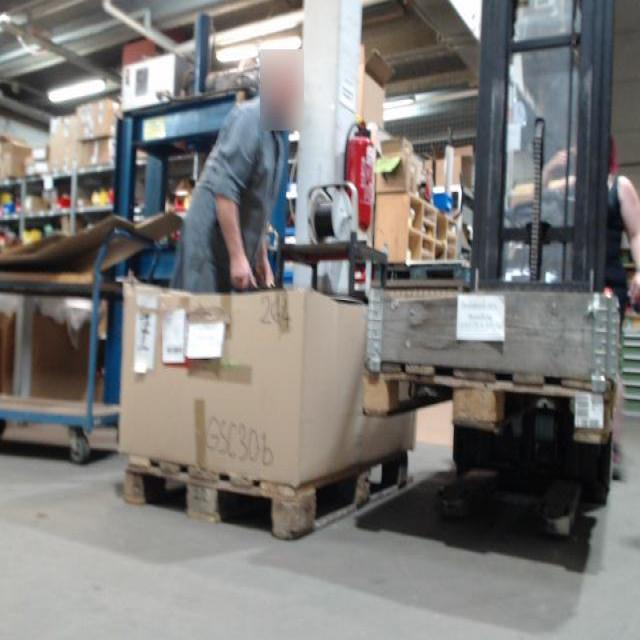pallet: (122, 439, 412, 543), (364, 363, 613, 447)
pallet_truck: (419, 2, 623, 546)
